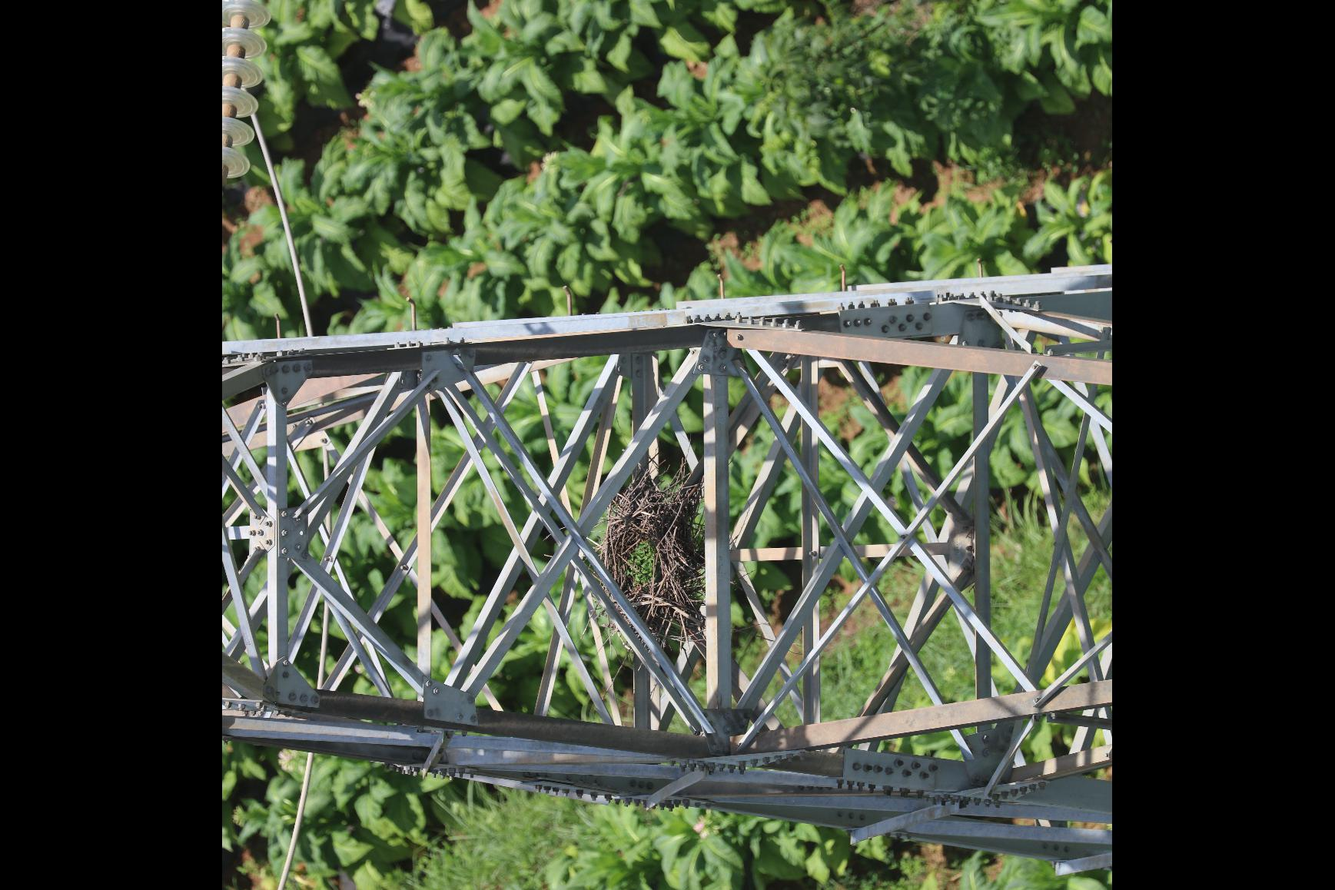nest: (593, 468, 706, 653)
